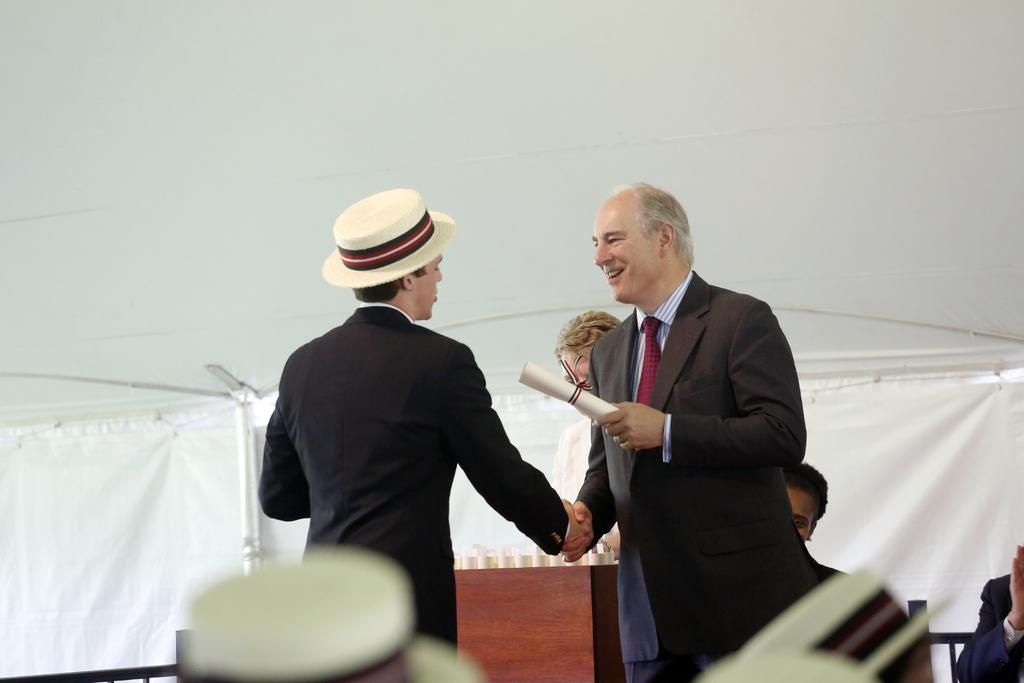Hat: (320, 188, 456, 288)
